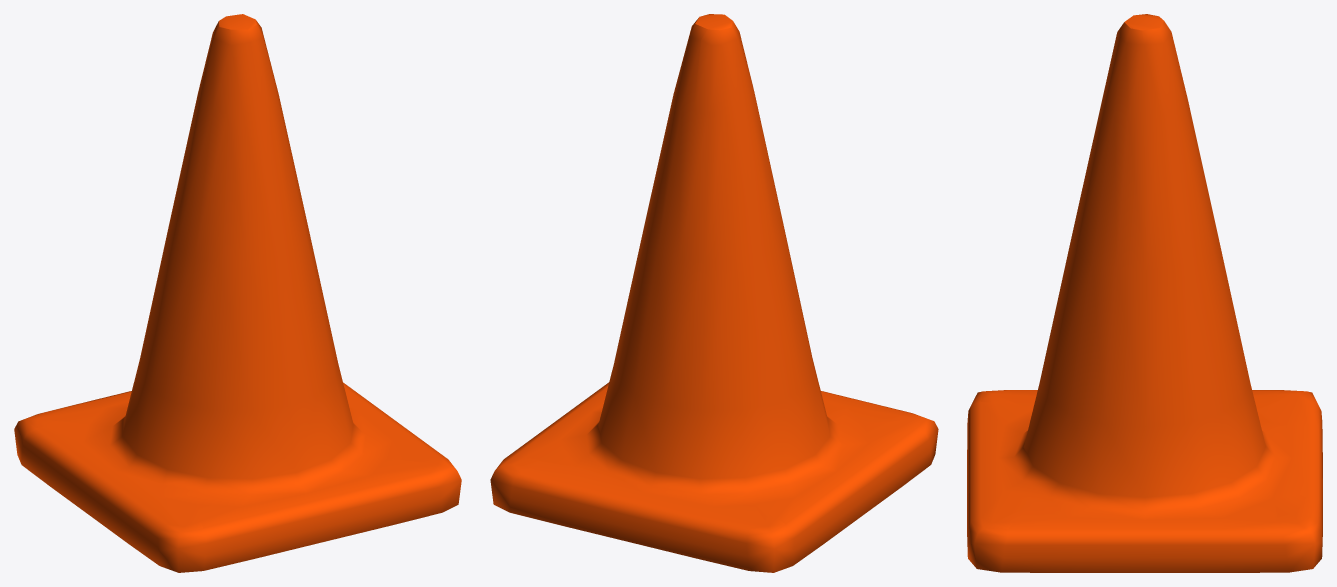
3 views of the same model, side by side, from view 1: azimuth 30°, elevation 25°; view 2: azimuth 150°, elevation 25°; view 3: azimuth 270°, elevation 25° (orthographic). The views are drawn at different scales.
Visible parts, largest first — view 1: SM_Cone; view 2: SM_Cone; view 3: SM_Cone.
Boxes of the visible parts, left/top/right/bottom form: SM_Cone: left=14, top=14, right=461, bottom=572; SM_Cone: left=490, top=14, right=938, bottom=572; SM_Cone: left=967, top=14, right=1322, bottom=572.
Bounding box in the file's own units: 0.6772 × 0.9994 × 0.6772.
